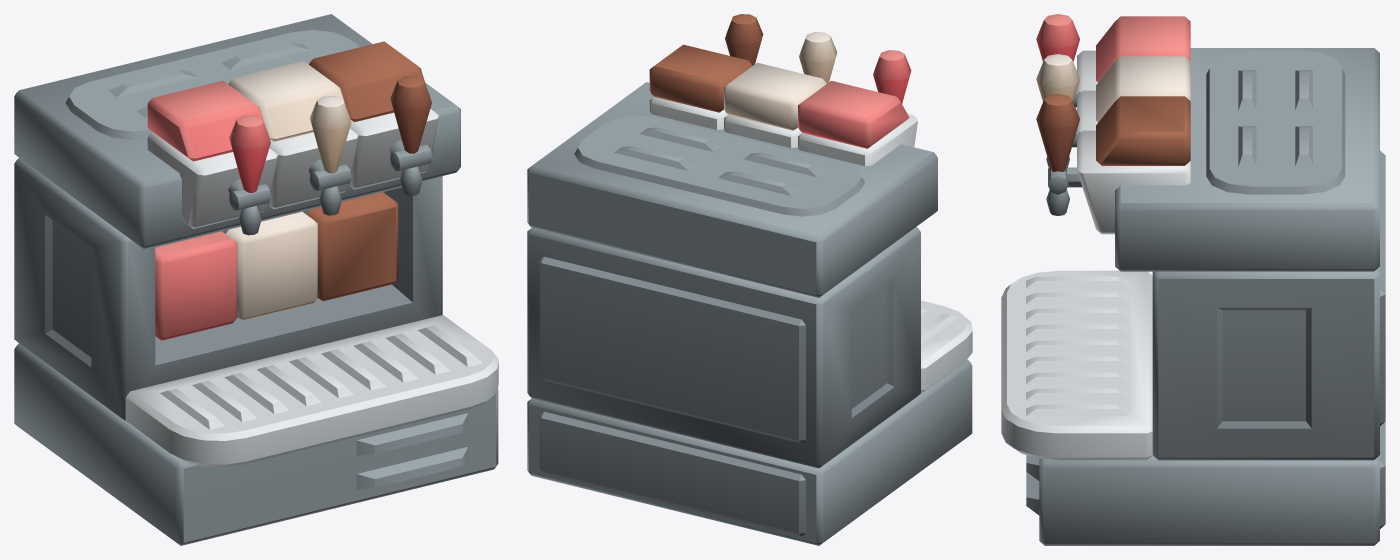
The model's file is icecream_machine.gltf.
The picture shows the model from 3 angles, left to right: view 1: azimuth 30°, elevation 25°; view 2: azimuth 150°, elevation 25°; view 3: azimuth 270°, elevation 25°; orthographic projection. The views are drawn at different scales.
Visible parts, largest first — view 1: icecream_machine, icecream_machine_handle_strawberry, icecream_machine_handle_chocolate, icecream_machine_handle_vanilla; view 2: icecream_machine, icecream_machine_handle_strawberry, icecream_machine_handle_chocolate, icecream_machine_handle_vanilla; view 3: icecream_machine, icecream_machine_handle_chocolate, icecream_machine_handle_strawberry, icecream_machine_handle_vanilla.
Boxes of the visible parts, <box> form: icecream_machine: <box>14,14,498,545</box>; icecream_machine_handle_strawberry: <box>229,115,271,210</box>; icecream_machine_handle_chocolate: <box>390,76,432,171</box>; icecream_machine_handle_vanilla: <box>309,96,351,190</box>; icecream_machine: <box>527,44,972,545</box>; icecream_machine_handle_strawberry: <box>873,50,911,103</box>; icecream_machine_handle_chocolate: <box>725,14,763,65</box>; icecream_machine_handle_vanilla: <box>799,32,837,83</box>; icecream_machine: <box>1001,16,1385,545</box>; icecream_machine_handle_chocolate: <box>1036,94,1079,194</box>; icecream_machine_handle_strawberry: <box>1036,14,1079,61</box>; icecream_machine_handle_vanilla: <box>1036,54,1079,101</box>.
Size of the model in its own units: 2 by 2.4 by 2.03.
1 material, 1 textured.
